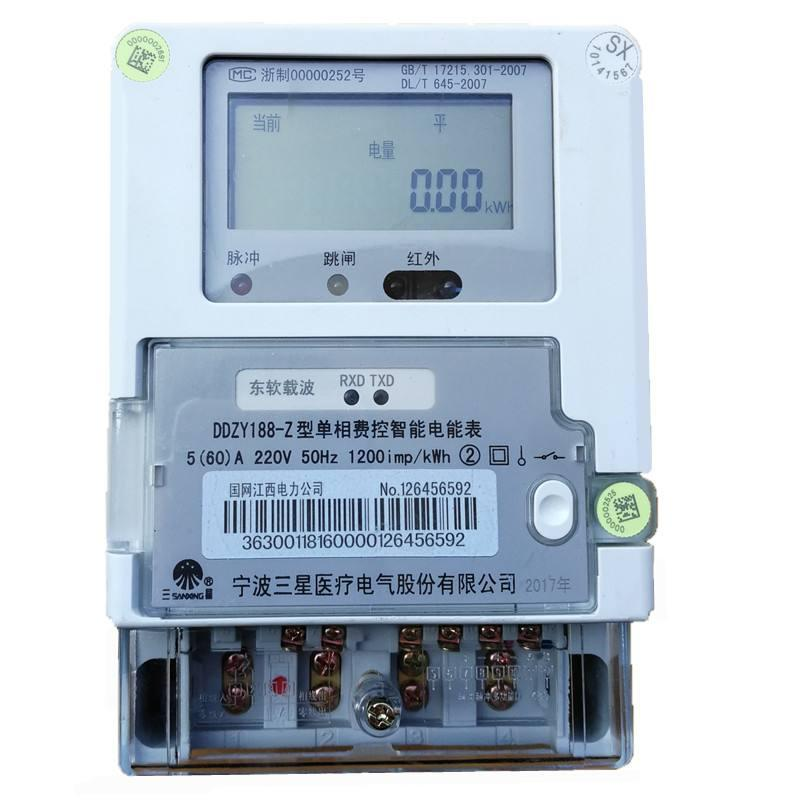digital: (104, 24, 652, 622)
